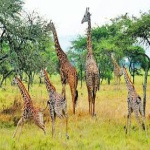Animal: (47, 19, 80, 115), (11, 73, 48, 137), (81, 7, 102, 117), (39, 66, 70, 140), (122, 63, 145, 131)
Uncultivated: (4, 69, 148, 150)
